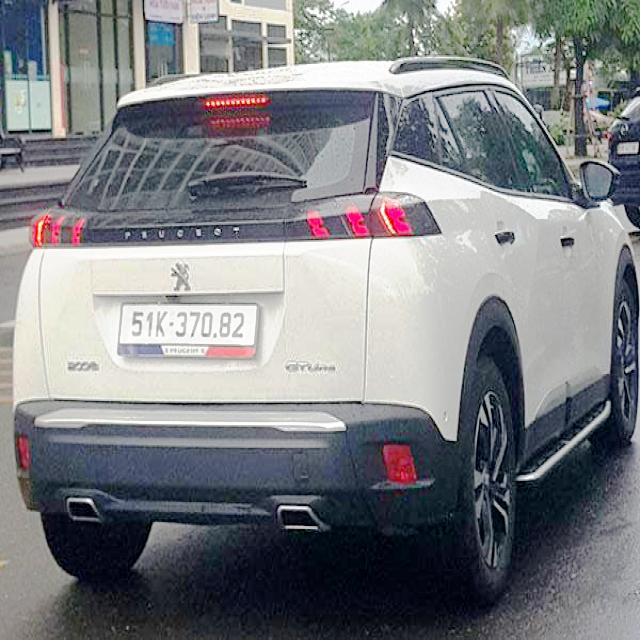license_plate: (119, 303, 260, 358)
